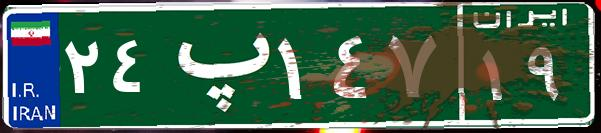1: (273, 28, 330, 110), (475, 38, 525, 113)
2: (57, 26, 110, 107)
4: (330, 28, 385, 110), (110, 28, 158, 105)
7: (385, 28, 445, 110)
9: (525, 38, 570, 115)
پ: (158, 15, 273, 115)
